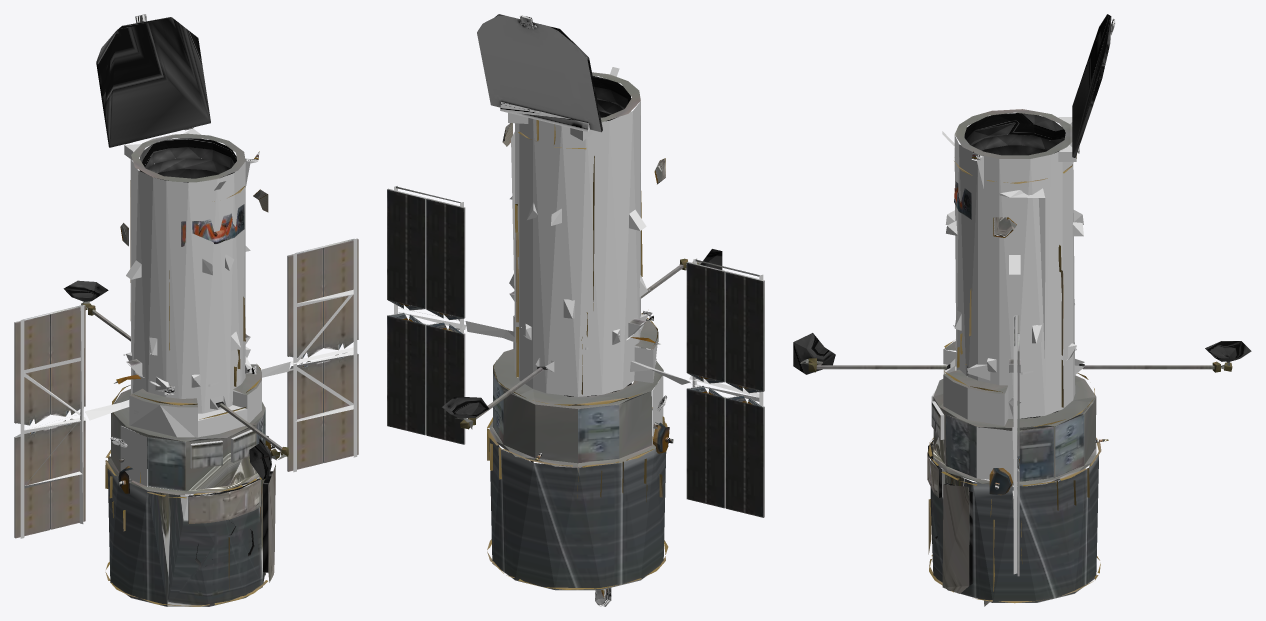
3 views of the same model, side by side, from view 1: azimuth 30°, elevation 25°; view 2: azimuth 150°, elevation 25°; view 3: azimuth 270°, elevation 25° (orthographic). The views are drawn at different scales.
Visible parts, largest first — view 1: Object_14, Object_22, Object_8, Object_18, Object_20, Object_6; view 2: Object_14, Object_16, Object_18, Object_22, Object_10, Object_20, Object_8; view 3: Object_14, Object_18, Object_22, Object_20, Object_8.
Boxes of the visible parts, x1=… form: Object_14: x1=20, y1=128, x2=357, y2=538; Object_22: x1=15, y1=133, x2=358, y2=582; Object_8: x1=63, y1=17, x2=272, y2=572; Object_18: x1=107, y1=466, x2=265, y2=606; Object_20: x1=14, y1=127, x2=357, y2=606; Object_6: x1=181, y1=204, x2=244, y2=246; Object_14: x1=394, y1=67, x2=763, y2=444; Object_16: x1=387, y1=189, x2=763, y2=517; Object_18: x1=489, y1=438, x2=666, y2=590; Object_22: x1=455, y1=72, x2=700, y2=467; Object_10: x1=477, y1=15, x2=667, y2=606; Object_20: x1=387, y1=120, x2=764, y2=598; Object_8: x1=442, y1=14, x2=722, y2=462; Object_14: x1=931, y1=117, x2=1084, y2=574; Object_18: x1=930, y1=453, x2=1098, y2=602; Object_22: x1=800, y1=109, x2=1229, y2=606; Object_20: x1=808, y1=151, x2=1232, y2=603; Object_8: x1=793, y1=14, x2=1251, y2=585.
Size of what is drawn, in the model's own units: 11.07 by 16.71 by 12.27.
Materials: 10 (8 with a texture image).
